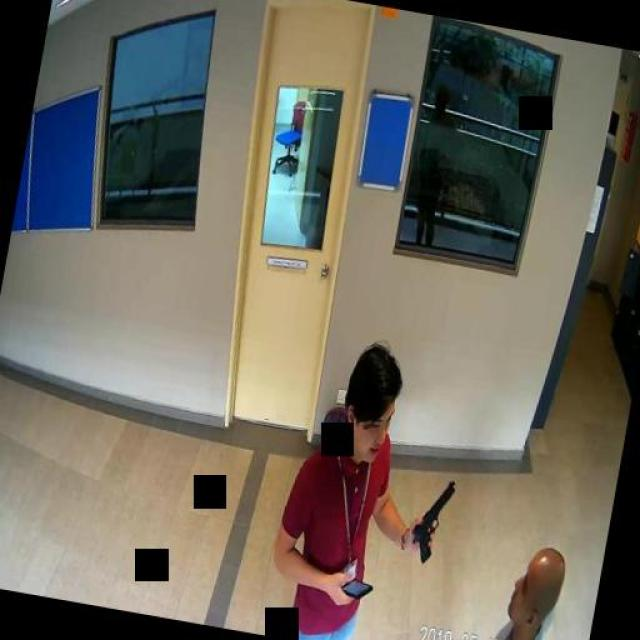gun: (406, 472, 455, 564)
